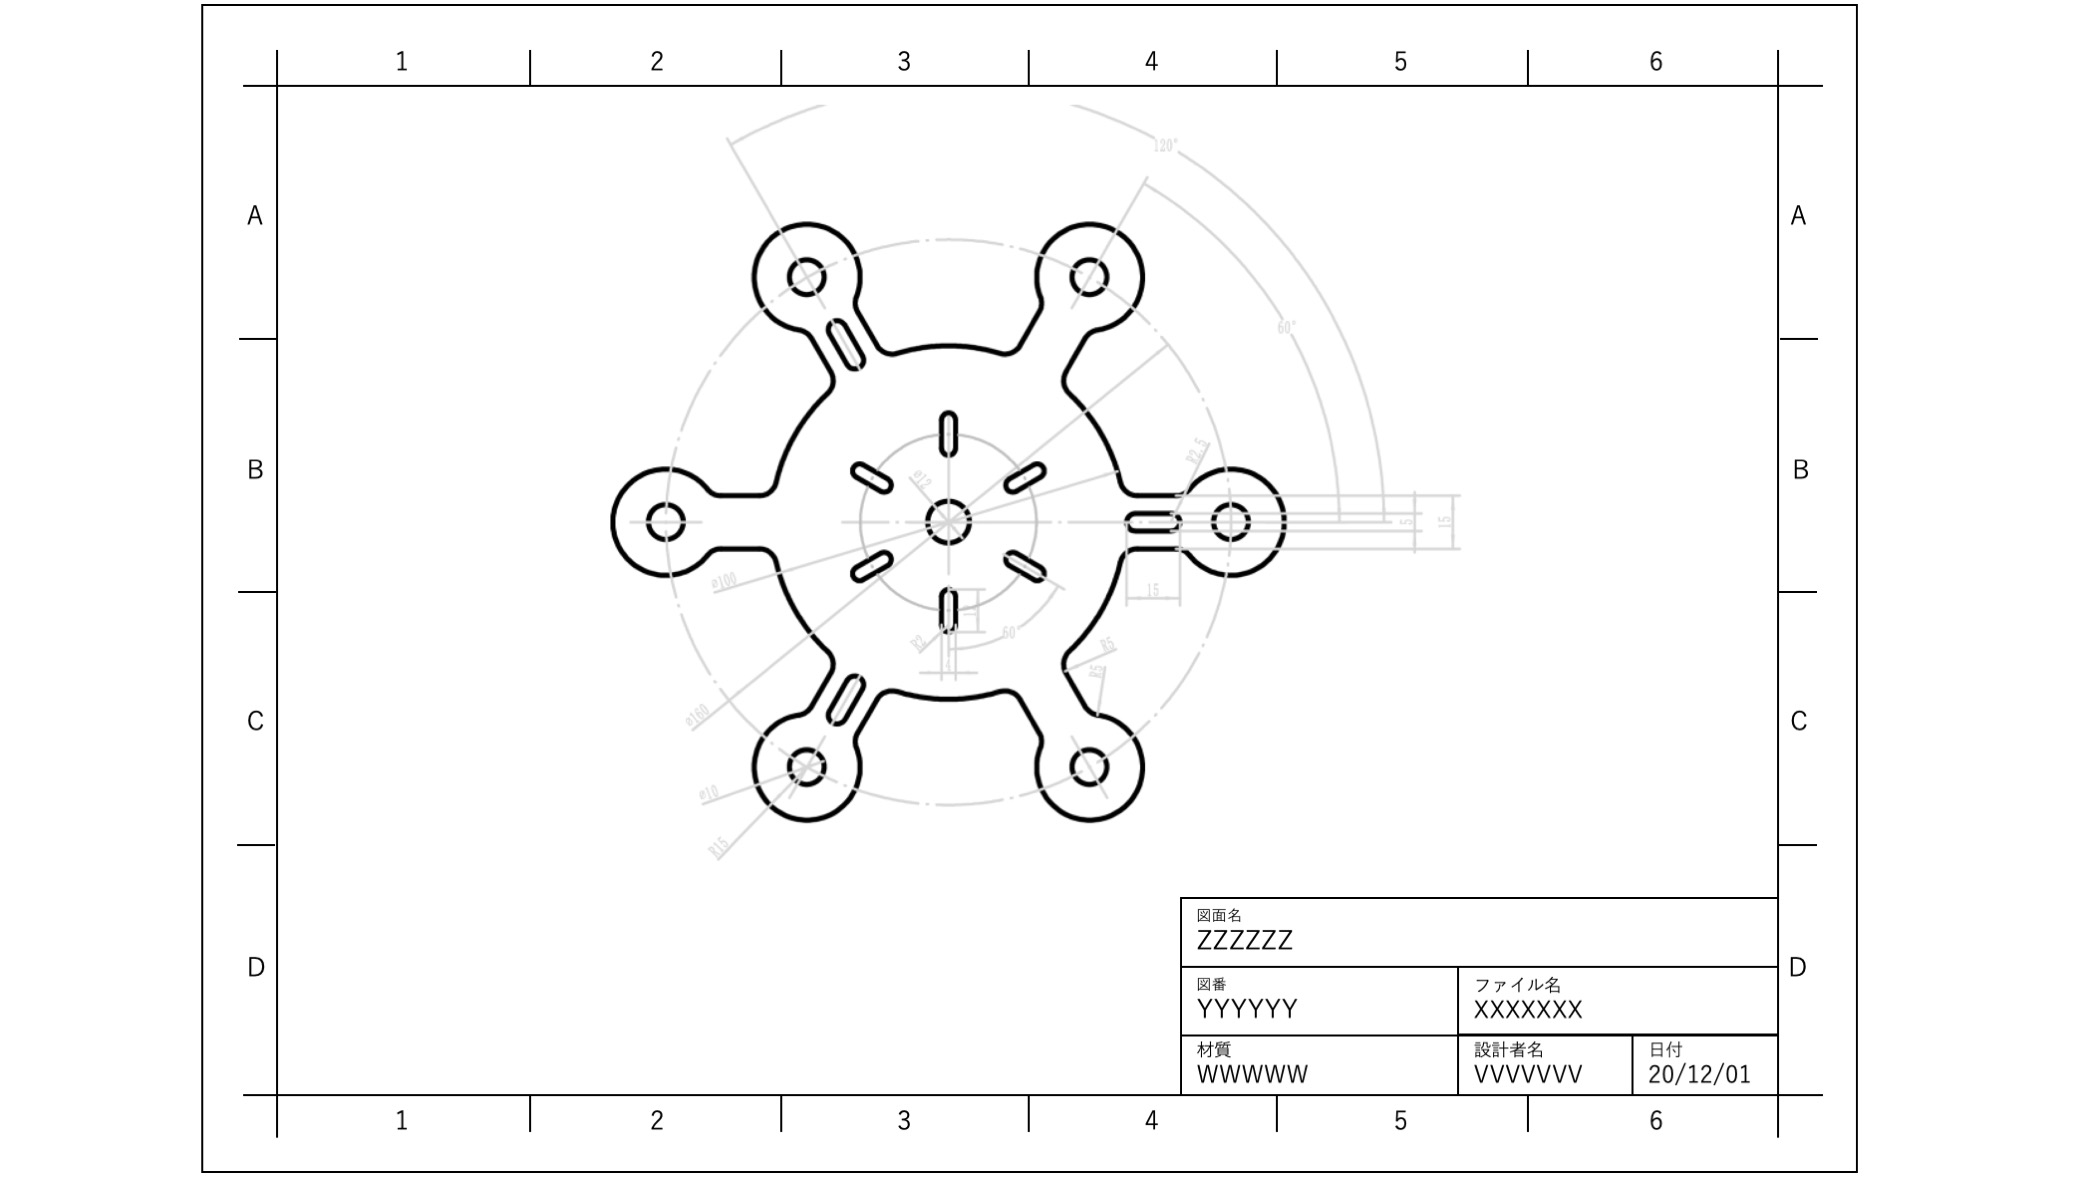circle: (919, 492, 975, 549), (775, 248, 835, 301), (1064, 734, 1115, 792), (1204, 495, 1253, 552), (635, 493, 689, 544), (1063, 248, 1112, 301), (780, 740, 831, 786)
round_rectangle: (824, 663, 868, 730), (821, 311, 868, 371), (839, 453, 899, 500), (841, 541, 899, 588), (998, 539, 1051, 588), (1001, 447, 1047, 502), (1121, 500, 1186, 539), (935, 575, 966, 634), (935, 401, 966, 459)
